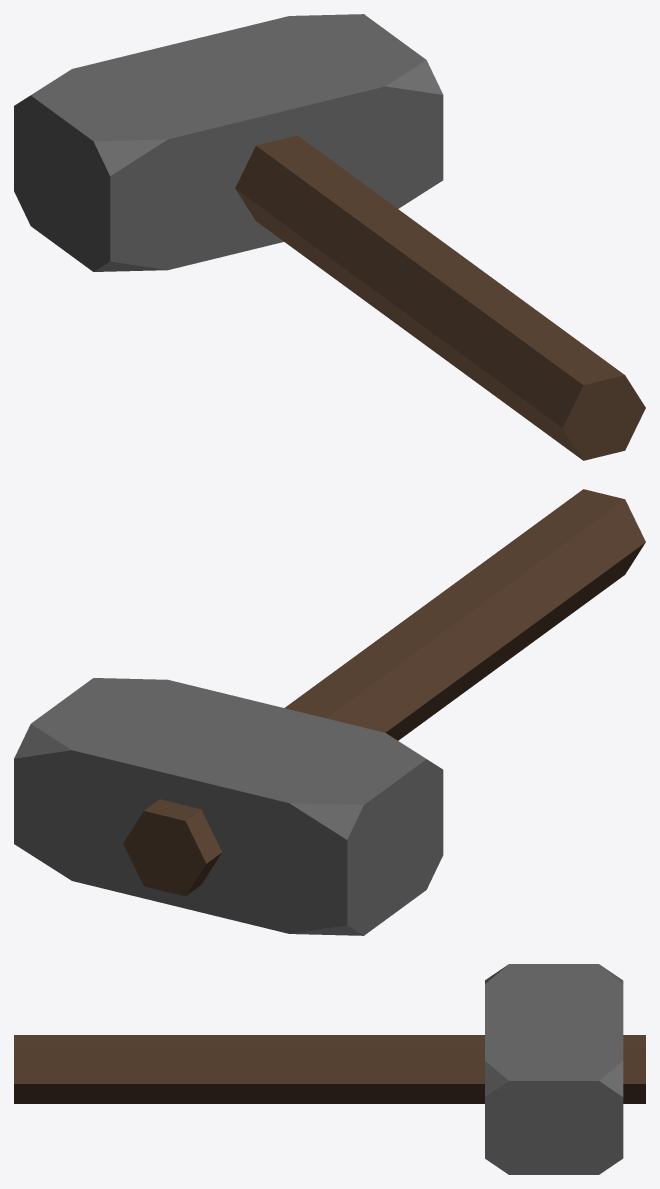
The model's file is hammerGLTF.gltf.
3 views of the same model, one above another, from view 1: azimuth 30°, elevation 25°; view 2: azimuth 150°, elevation 25°; view 3: azimuth 270°, elevation 25° (orthographic). The views are drawn at different scales.
Visible parts, largest first — view 1: Cube.001, Cylinder; view 2: Cube.001, Cylinder; view 3: Cylinder, Cube.001.
Part boxes in pixels (left/top/right/bottom): Cube.001: left=14, top=14, right=443, bottom=271; Cylinder: left=235, top=135, right=645, bottom=460; Cube.001: left=14, top=678, right=443, bottom=935; Cylinder: left=123, top=489, right=645, bottom=896; Cylinder: left=14, top=1035, right=645, bottom=1103; Cube.001: left=485, top=964, right=623, bottom=1174.
Bounding box in the file's own units: 2 × 0.75 × 4.57.
